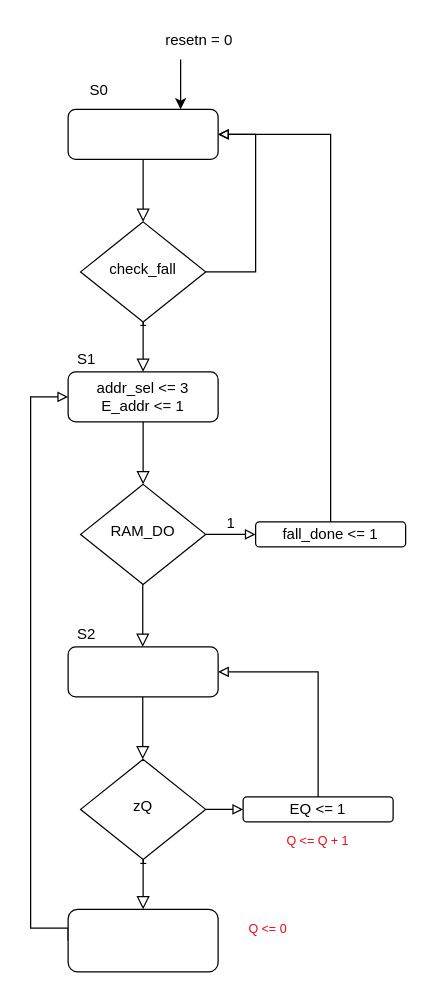
The diagram is 428 pixels wide and 994 high, and some of its shapes have lost their labels. The shapes that lost their labels are listed below. From the top down, each one's box as (x1, y1, x2, y2) in pixels, then its label:
(67, 108, 218, 159): E_addr <= 0 posY_E <= 0 falling <= 0 done <= 0 E_fallCt <= 0 addr_sel <= 0
(67, 646, 218, 697): falling <= 1
(67, 908, 218, 972): EQ, sclrQ <= 1 posY_E <= 1 E_fallCt <= 1
